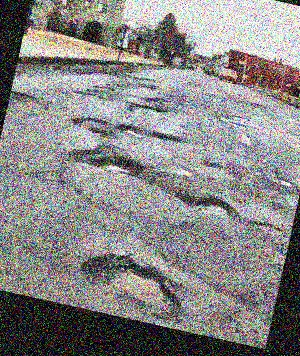pothole: (75, 244, 194, 315), (175, 187, 236, 220), (89, 147, 146, 179), (116, 121, 150, 140), (132, 99, 172, 115), (152, 128, 186, 144)
